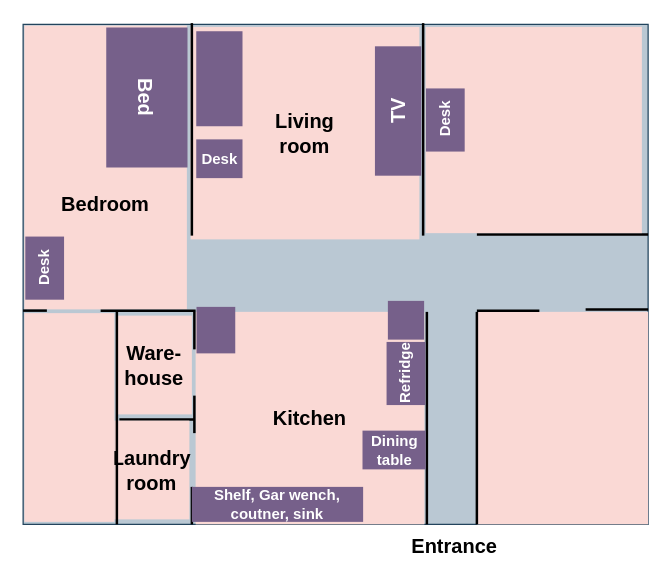
Some shapes in this 670 by 585 pixel diagram are drawn without their labels. Each missing label, with the centre of its shape:
Drawer: (215,329)
Dress- room: (69,416)
Restroom: (562,417)
Sofa: (219,78)
Study room: (533,129)
Trash Bin: (405,319)
